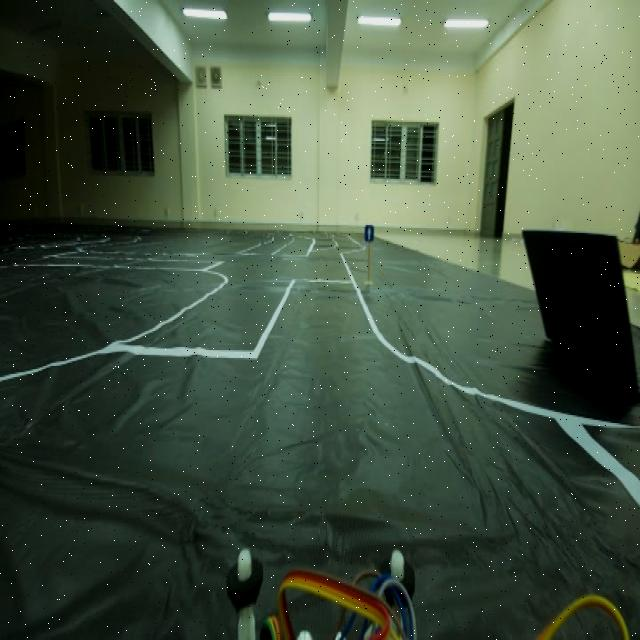onewayroad: (359, 220, 381, 247)
